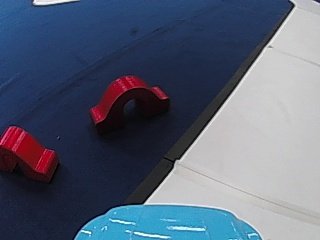bridge: (86, 73, 173, 131), (1, 123, 61, 183)
